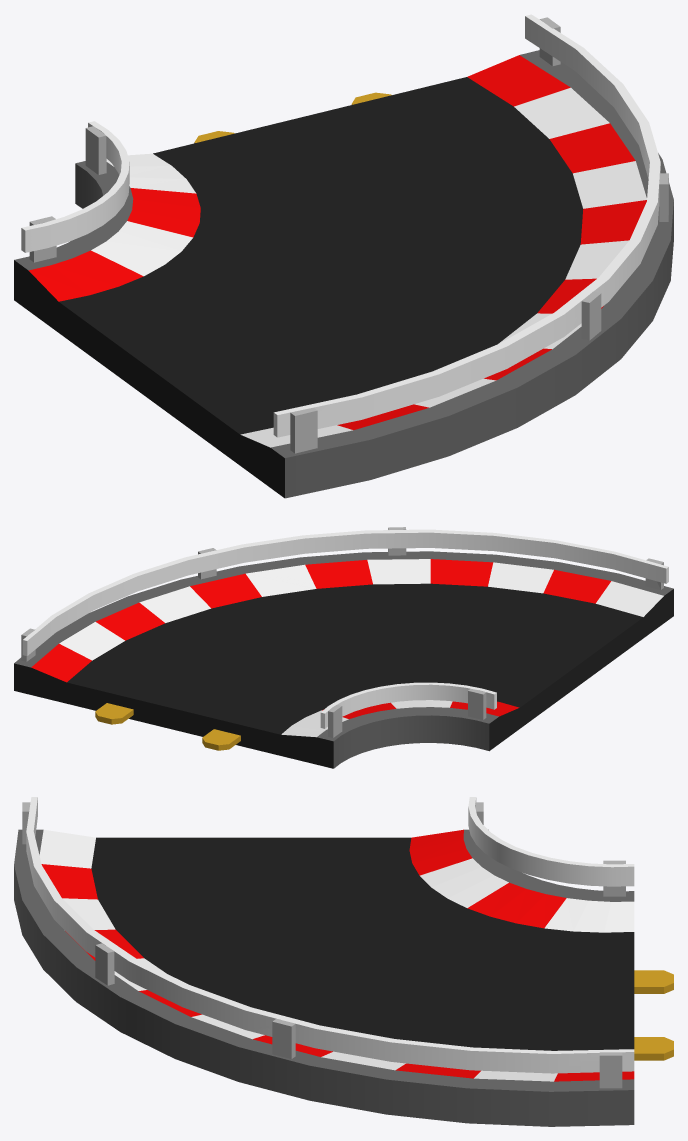
3 views of the same model, one above another, from view 1: azimuth 30°, elevation 25°; view 2: azimuth 150°, elevation 25°; view 3: azimuth 270°, elevation 25° (orthographic). The views are drawn at different scales.
Parts seen in each view (by area): view 1: Group1; view 2: Group1; view 3: Group1.
Boxes of the visible parts, bbox=[...] form: Group1: bbox=[14, 14, 673, 498]; Group1: bbox=[14, 527, 673, 768]; Group1: bbox=[14, 797, 673, 1126].
Size of the model in its own units: 17.02 by 2.05 by 18.1.
